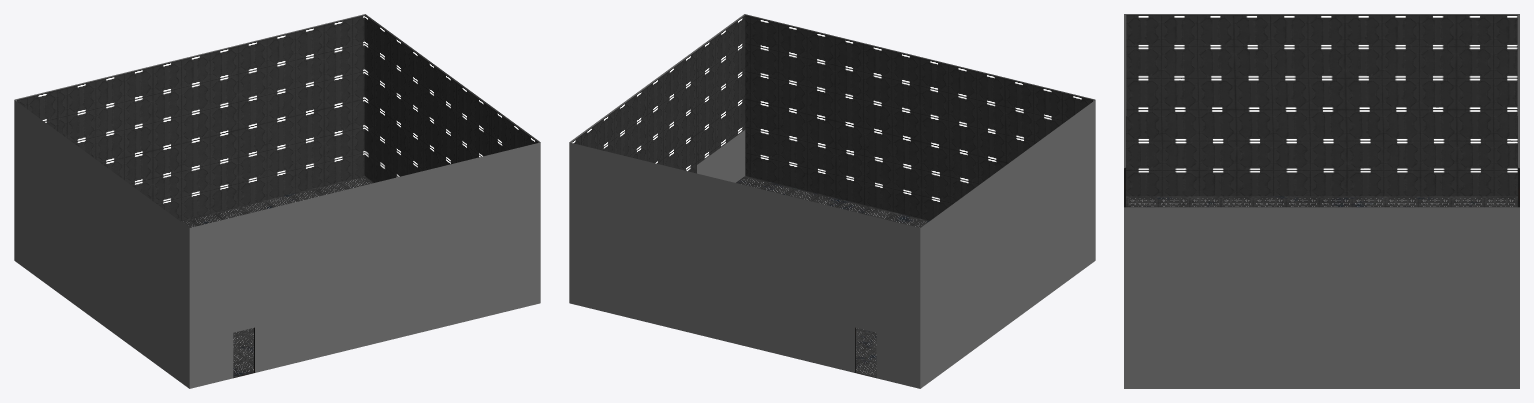
File: Hab01.fbx
The picture shows the model from 3 angles, left to right: view 1: azimuth 30°, elevation 25°; view 2: azimuth 150°, elevation 25°; view 3: azimuth 270°, elevation 25°; orthographic projection. The views are drawn at different scales.
Visible parts, largest first — view 1: Ref_habitacion; view 2: Ref_habitacion; view 3: Ref_habitacion.
Boxes of the visible parts, x1,y1,x2,y2 form: Ref_habitacion: (14,14,540,388); Ref_habitacion: (569,14,1095,388); Ref_habitacion: (1124,14,1519,388).
Size of the model in its own units: 1603 by 702 by 1387.
